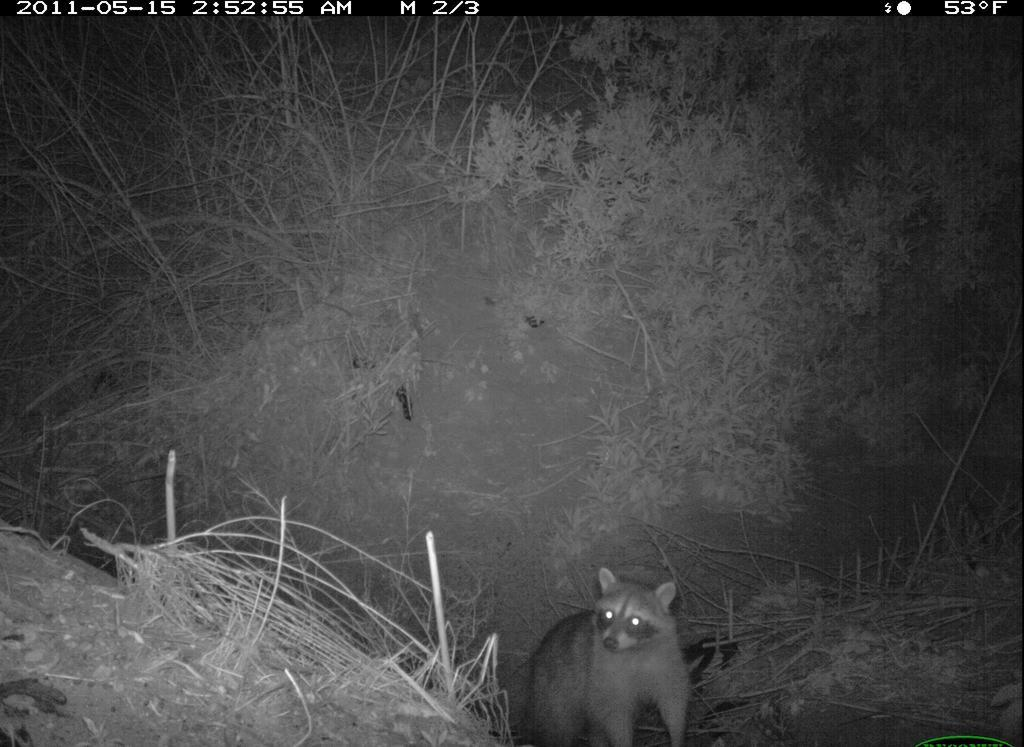raccoon: (509, 559, 734, 739)
